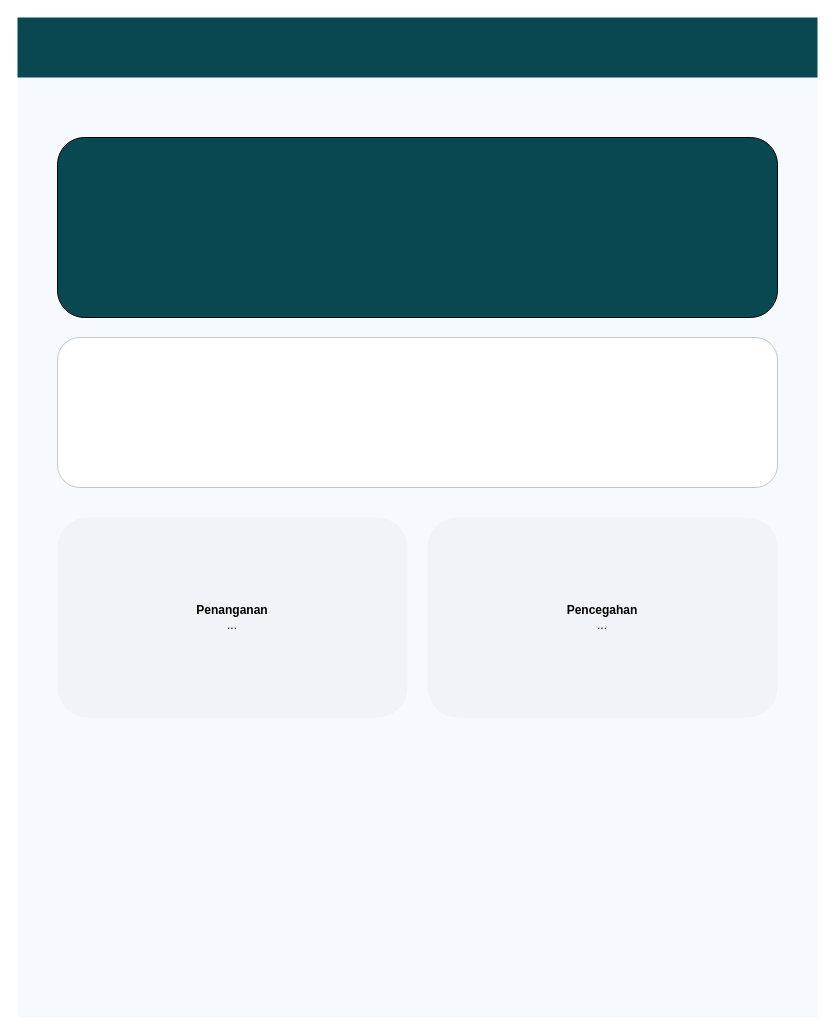
This 834x1034 diagram has some shape labels left out. The centre of each missing label's shape, as x and y in pixels:
Deskripsi Klinis ...: (x=417, y=412)
Penyakit A: (x=417, y=227)
